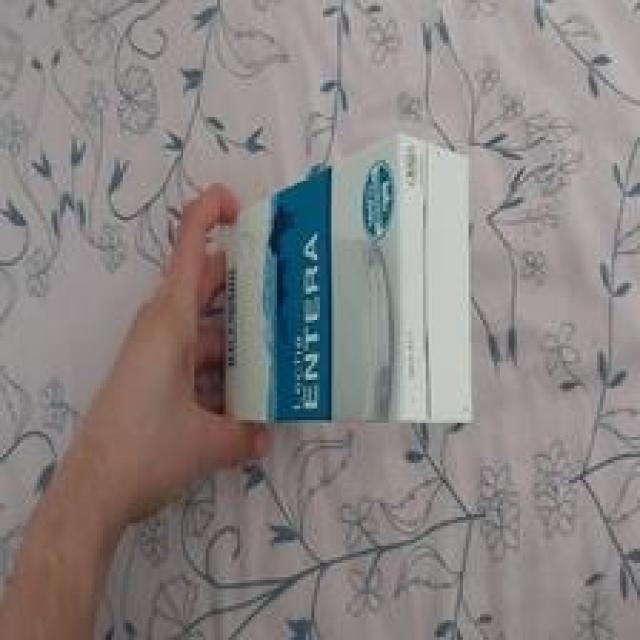Carton: (218, 134, 473, 429)
